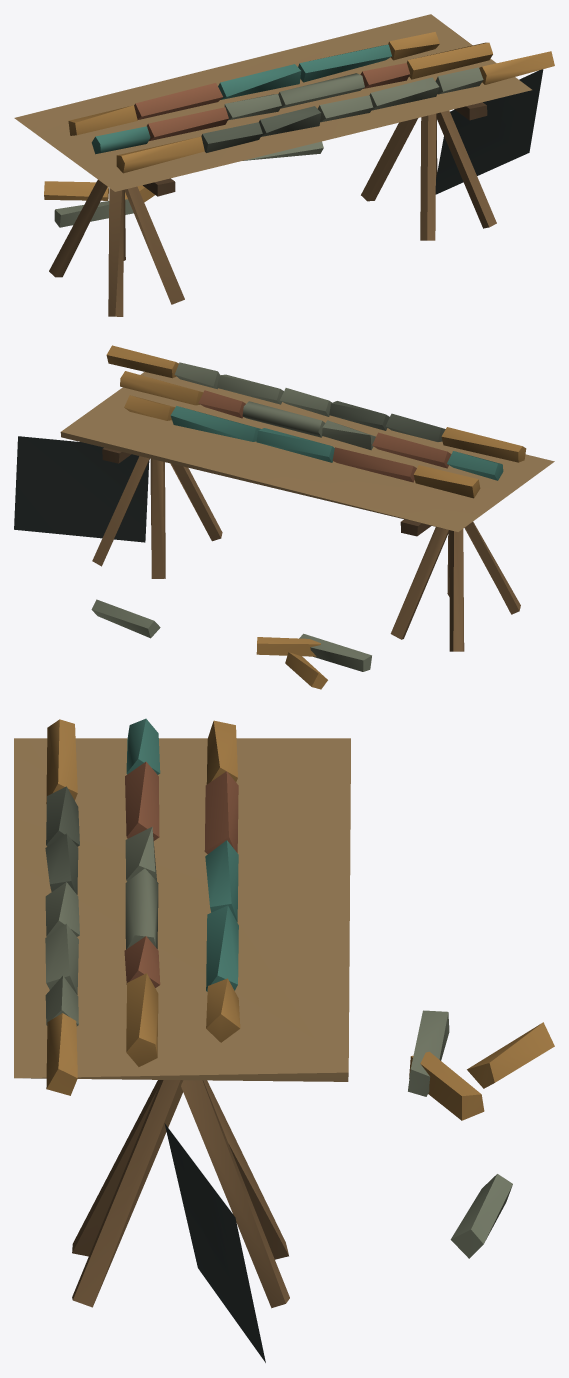
Rendered from core_rack_b_lod2.glb.
The picture shows the model from 3 angles, top to bottom: view 1: azimuth 30°, elevation 25°; view 2: azimuth 150°, elevation 25°; view 3: azimuth 270°, elevation 25°; orthographic projection. The views are drawn at different scales.
Visible parts, largest first — view 1: Surface.001; view 2: Surface.001; view 3: Surface.001.
Boxes of the visible parts, x1=… form: Surface.001: x1=14, y1=14, x2=554, y2=316; Surface.001: x1=14, y1=345, x2=554, y2=689; Surface.001: x1=14, y1=718, x2=554, y2=1362.
Size of the model in its own units: 2.86 by 0.9422 by 1.62.
